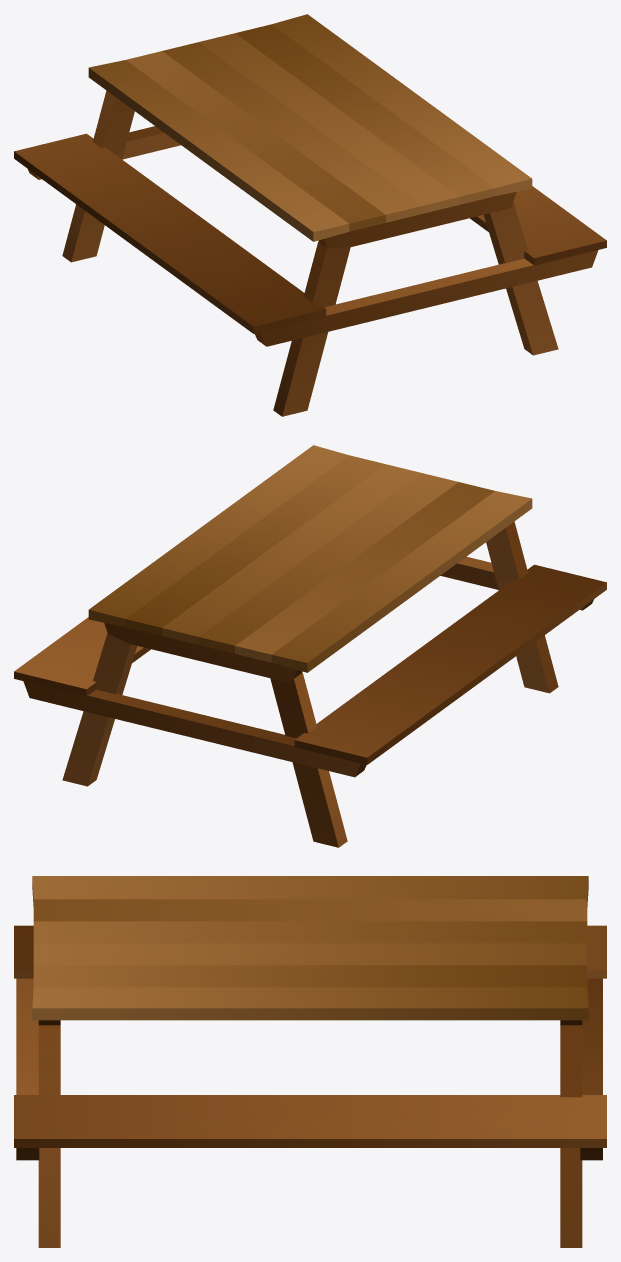
The model's file is Picnic_Bench.fbx.
The picture shows the model from 3 angles, top to bottom: view 1: azimuth 30°, elevation 25°; view 2: azimuth 150°, elevation 25°; view 3: azimuth 270°, elevation 25°; orthographic projection. The views are drawn at different scales.
Visible parts, largest first — view 1: Picnic_Bench; view 2: Picnic_Bench; view 3: Picnic_Bench.
Part boxes in pixels (x1,y1,x2,y2): Picnic_Bench: (14, 14, 606, 416); Picnic_Bench: (14, 445, 606, 847); Picnic_Bench: (14, 876, 606, 1247).
Bounding box in the file's own units: 154 × 74.91 × 181.
